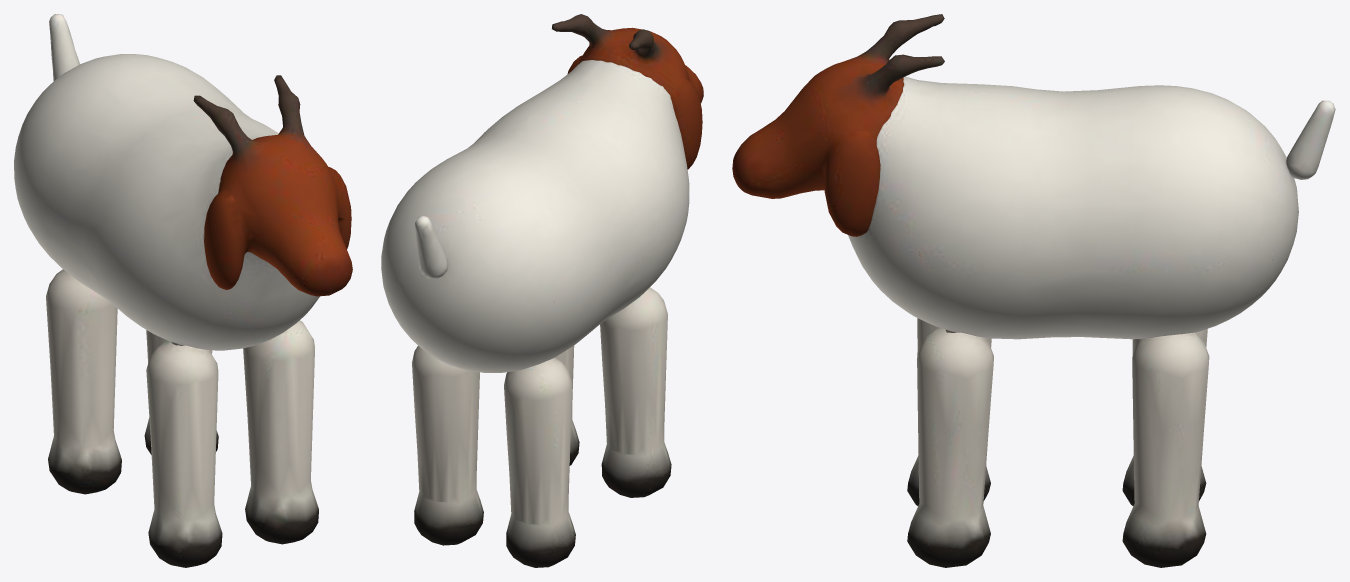
The model's file is animal_boer_goat.glb.
3 views of the same model, side by side, from view 1: azimuth 30°, elevation 25°; view 2: azimuth 150°, elevation 25°; view 3: azimuth 270°, elevation 25° (orthographic). The views are drawn at different scales.
Parts seen in each view (by area): view 1: animal_boer_goat, head, leg0, leg1, leg2, tail, leg3; view 2: animal_boer_goat, leg2, leg0, leg3, head, tail, leg1; view 3: animal_boer_goat, head, leg1, leg3, tail, leg0.
Boxes of the visible parts, left/top/right/bottom form: animal_boer_goat: left=14, top=54, right=319, bottom=350; head: left=193, top=75, right=352, bottom=296; leg0: left=146, top=340, right=222, bottom=567; leg1: left=243, top=320, right=318, bottom=544; leg2: left=46, top=269, right=121, bottom=494; tail: left=49, top=14, right=79, bottom=80; leg3: left=144, top=330, right=218, bottom=454; animal_boer_goat: left=381, top=60, right=689, bottom=372; leg2: left=504, top=357, right=575, bottom=567; leg0: left=600, top=287, right=671, bottom=497; leg3: left=412, top=346, right=483, bottom=545; head: left=552, top=14, right=703, bottom=169; tail: left=415, top=215, right=448, bottom=278; leg1: left=555, top=345, right=579, bottom=465; animal_boer_goat: left=848, top=76, right=1298, bottom=339; head: left=732, top=14, right=944, bottom=236; leg1: left=907, top=328, right=993, bottom=567; leg3: left=1122, top=332, right=1209, bottom=567; tail: left=1286, top=100, right=1335, bottom=179; leg0: left=907, top=318, right=991, bottom=505.
Size of the model in its own units: 0.2149 by 0.4637 by 0.5044.
1 material, 1 textured.
